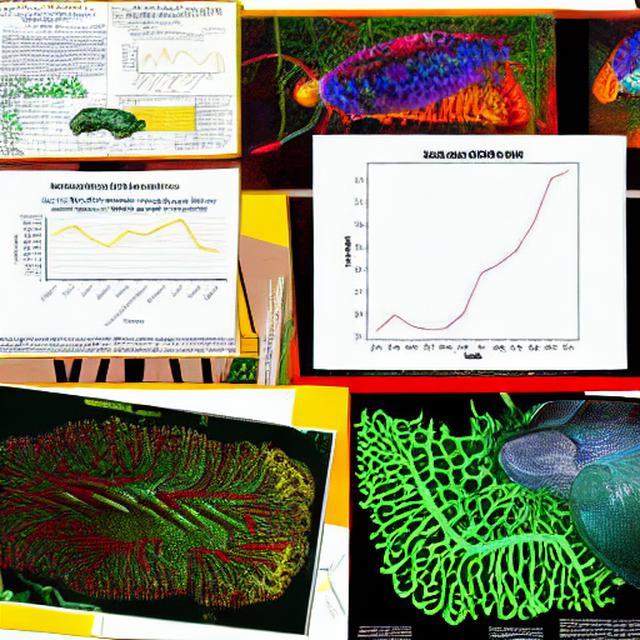Graph: (316, 135, 622, 365), (6, 191, 232, 327), (121, 36, 217, 93)
